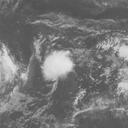cyclone: (41, 53, 74, 81)
